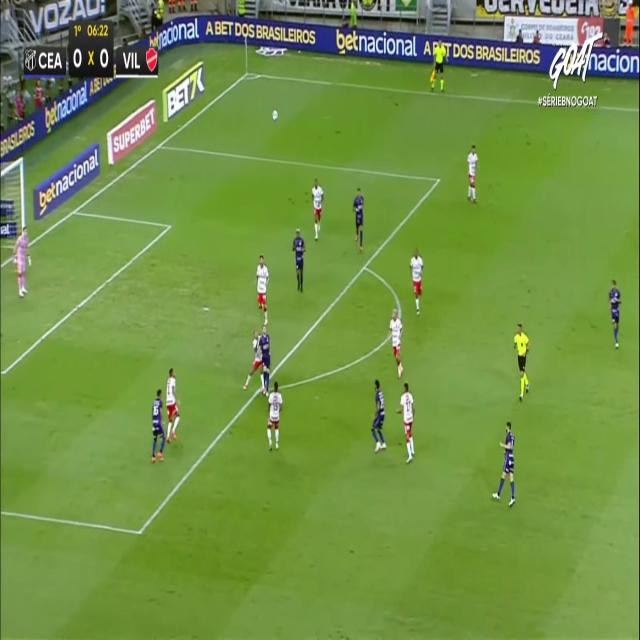ball: (272, 109, 278, 120)
goalkeeper: (12, 225, 32, 298)
player: (492, 420, 516, 506), (397, 381, 415, 463), (371, 378, 387, 452), (165, 366, 180, 443), (387, 307, 403, 379), (151, 388, 166, 463), (266, 380, 282, 450), (256, 254, 270, 327), (409, 248, 423, 315), (259, 324, 272, 396), (608, 278, 621, 348), (292, 228, 306, 292), (352, 187, 364, 252), (311, 177, 323, 240), (252, 319, 262, 391), (466, 144, 478, 203)
referee: (514, 322, 531, 402), (430, 38, 448, 92)
